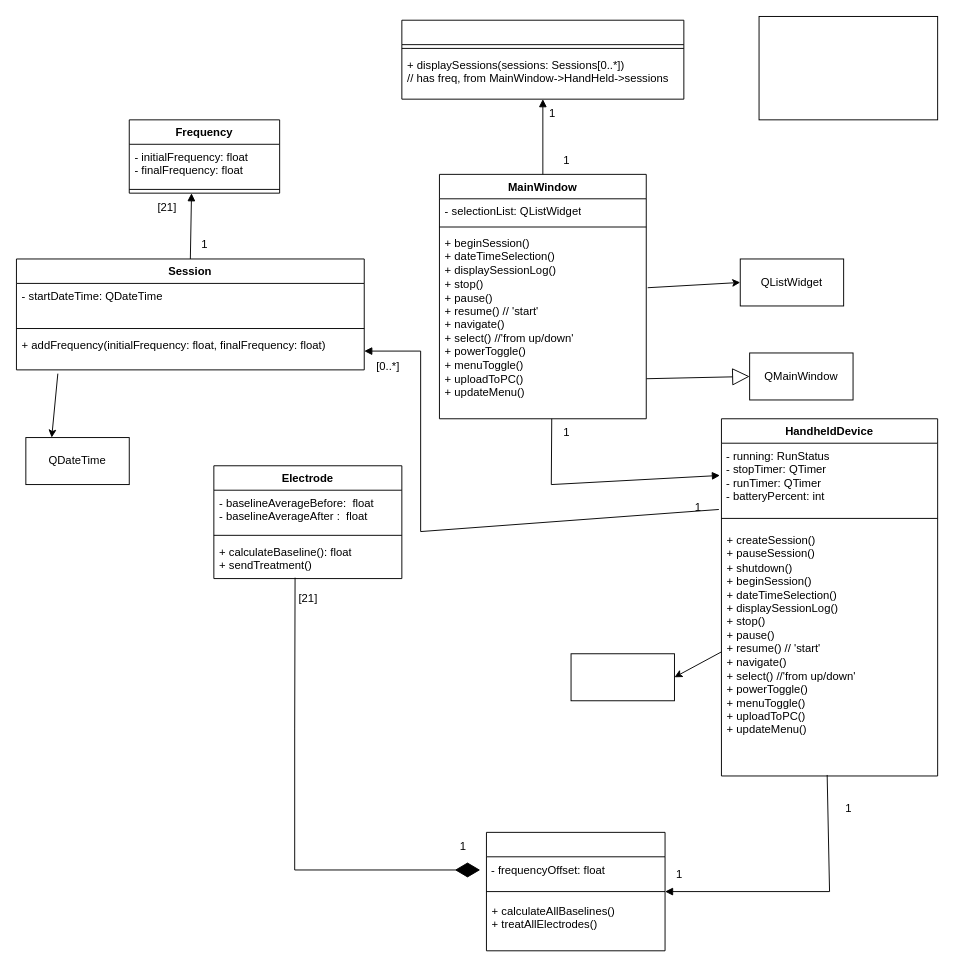
This 954x970 diagram has some shape labels left out. Here are the shapes that lost their labels. From the top down, the box of each, then its label:
(401, 19, 684, 99): PCWindow
(758, 16, 938, 120): <<Enumeration>> RunStatus ACTIVE INACTIVE PAUSED DISCONNECTED
(570, 653, 674, 701): QTimer
(486, 831, 665, 951): Headset
